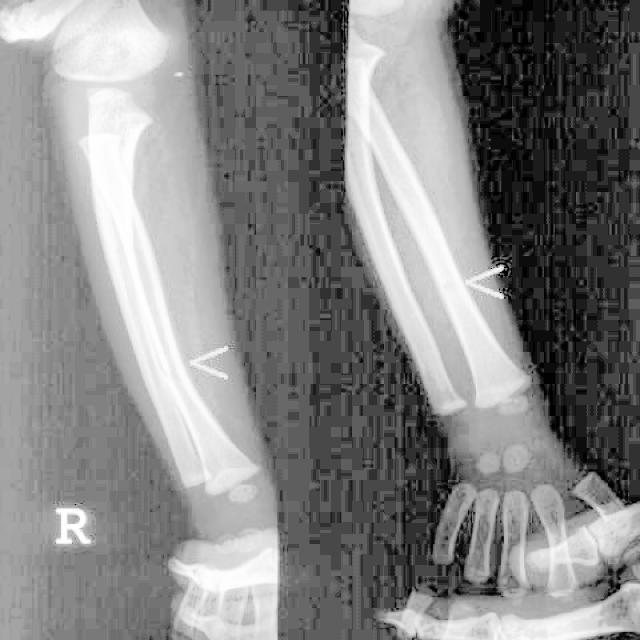GreenStick Fracture: (125, 325, 190, 398), (428, 254, 475, 319)
